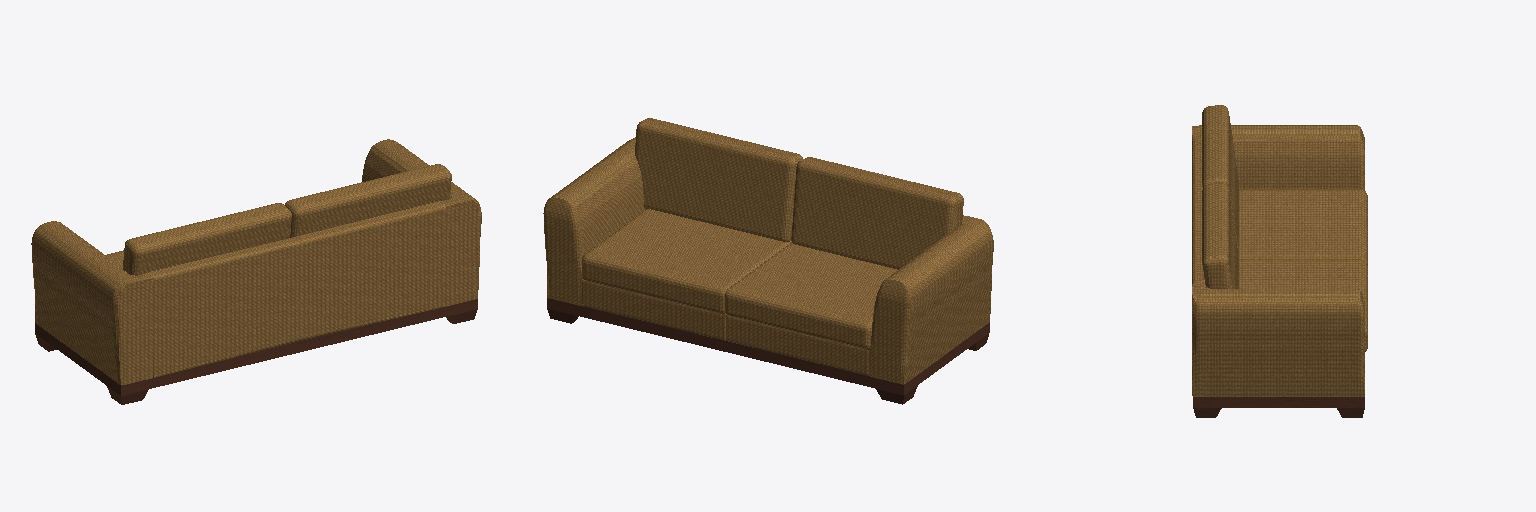
3 views of the same model, side by side, from view 1: azimuth 30°, elevation 25°; view 2: azimuth 150°, elevation 25°; view 3: azimuth 270°, elevation 25° (orthographic).
Parts seen in each view (by area): view 1: main, base; view 2: main, base; view 3: main, base.
Boxes of the visible parts, box(x1,y1,x2,y2) form: main: box(31, 139, 481, 384); base: box(35, 299, 477, 404); main: box(543, 118, 993, 384); base: box(547, 298, 989, 404); main: box(1192, 105, 1367, 396); base: box(1193, 397, 1364, 417).
Size of the model in its own units: 230 by 90 by 95.01.
2 materials, 2 textured.